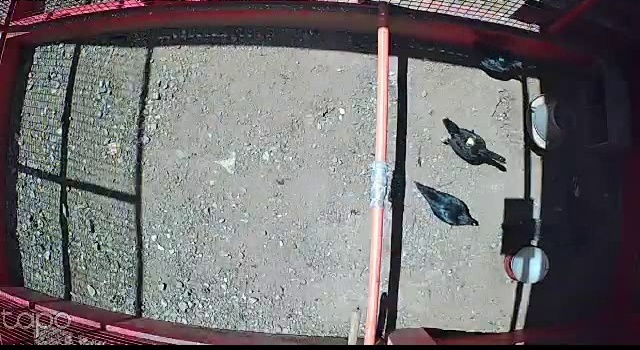Chicken: (431, 115, 510, 170), (409, 178, 481, 228)
Drinker: (502, 243, 551, 284)
Feeder: (522, 92, 580, 153)
Saddle_Color_Yellow: (466, 135, 476, 147)
